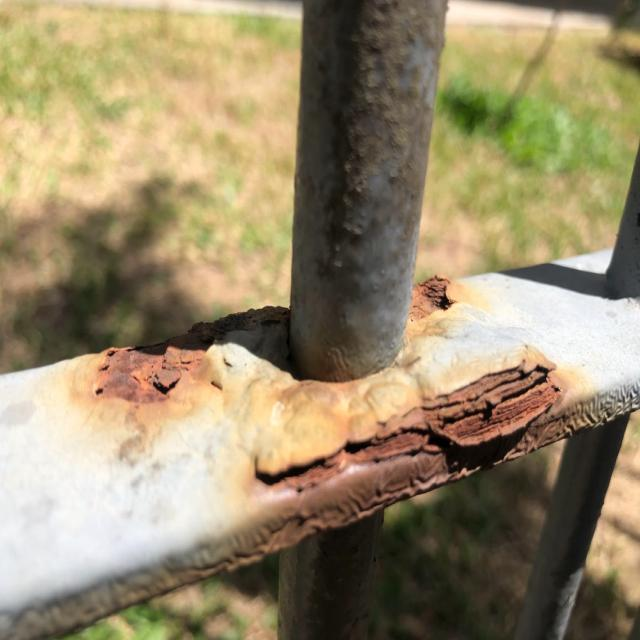Corrosion: (238, 315, 591, 546), (85, 305, 292, 424), (407, 275, 459, 324)
